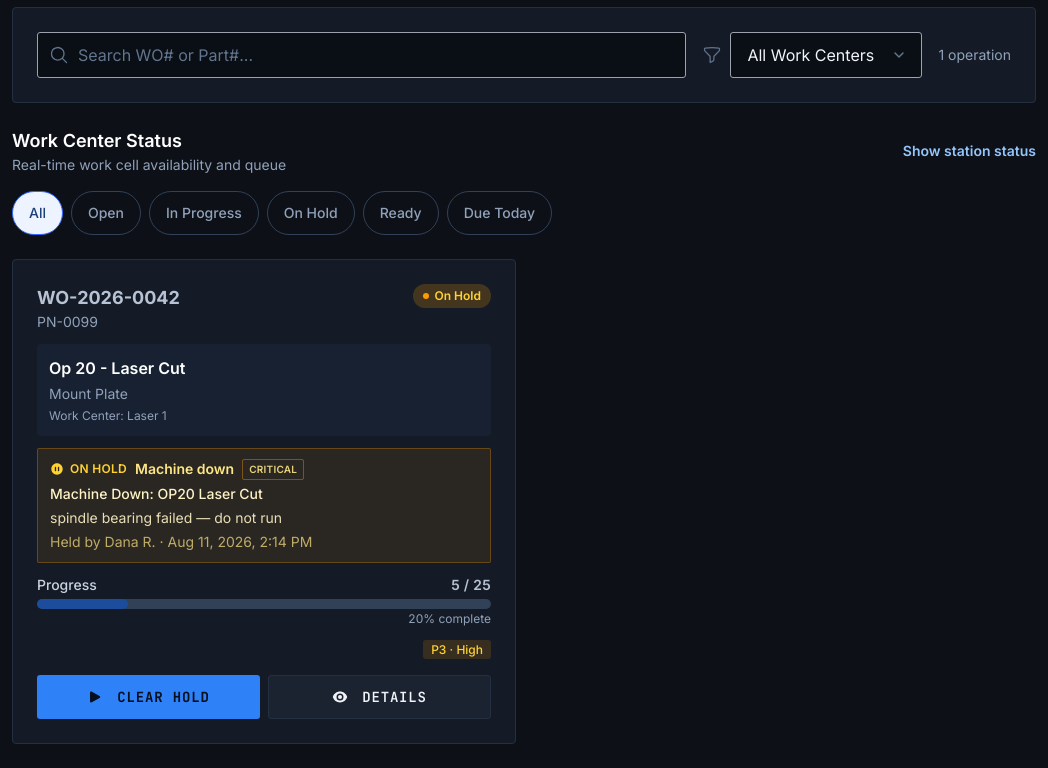
Test: ShopFloorSimple Clear Hold › WARNS, not succeeds, when the resume left the job off the board
The image size is (1048, 768).
(page scrolled)
expect the element with test id "shop-floor-op-202" is shown: met, box [12,258,516,744]
Click the button with test id "shop-floor-clear-hold-202".
click(148, 696)  # box [37,674,260,718]
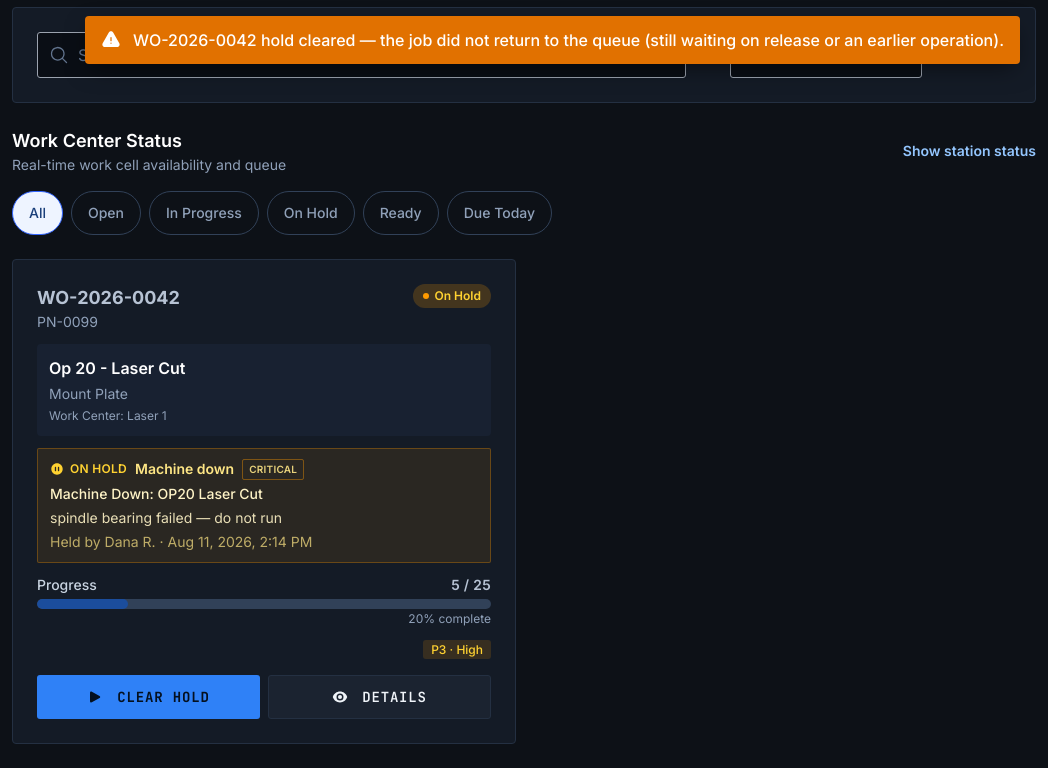
expect the message shows "did not return to the queue": met, box [133,30,1004,50]
expect the message shows "hold cleared": met, box [133,30,1004,50]
